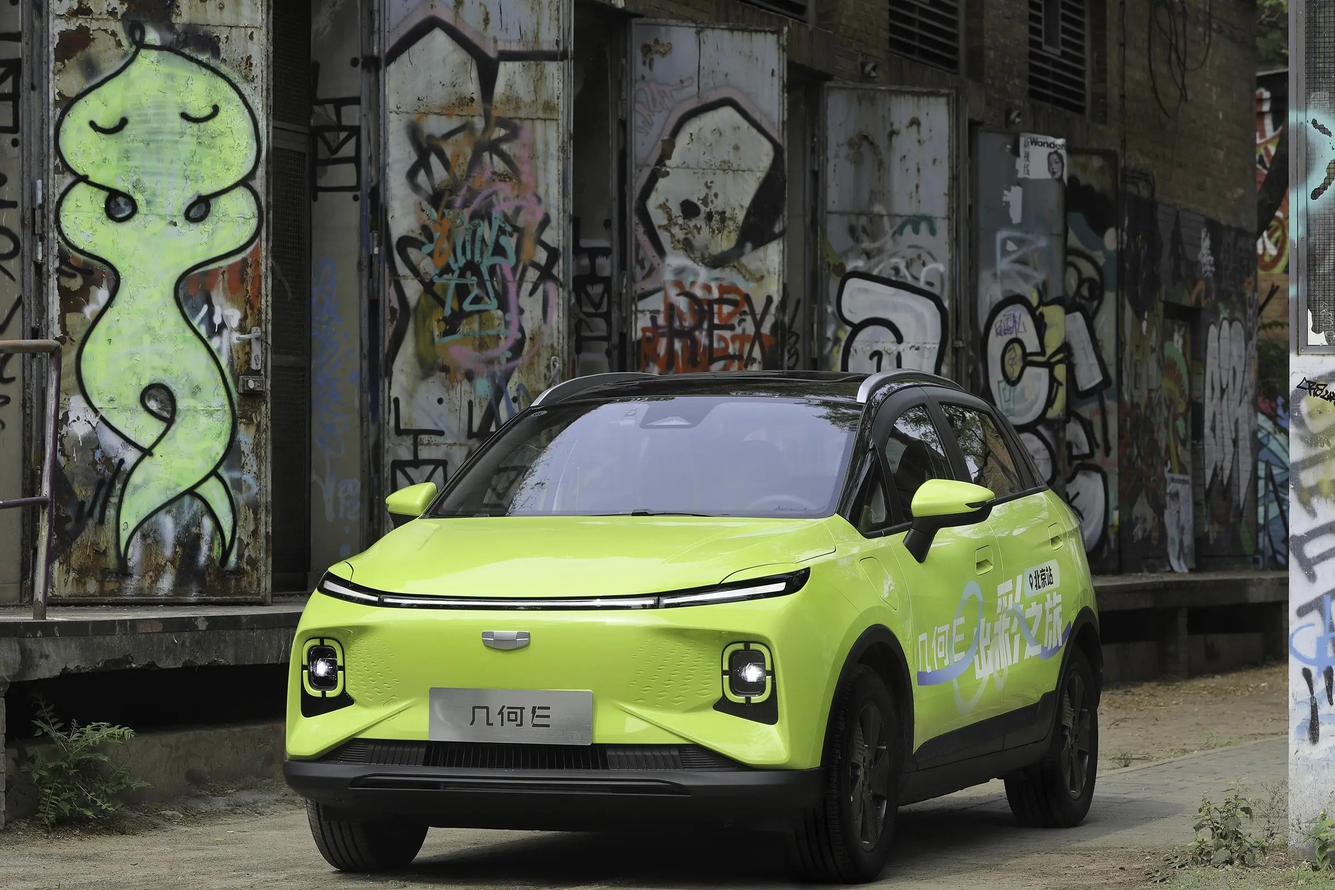GEOMETRY: (482, 631, 530, 650)
